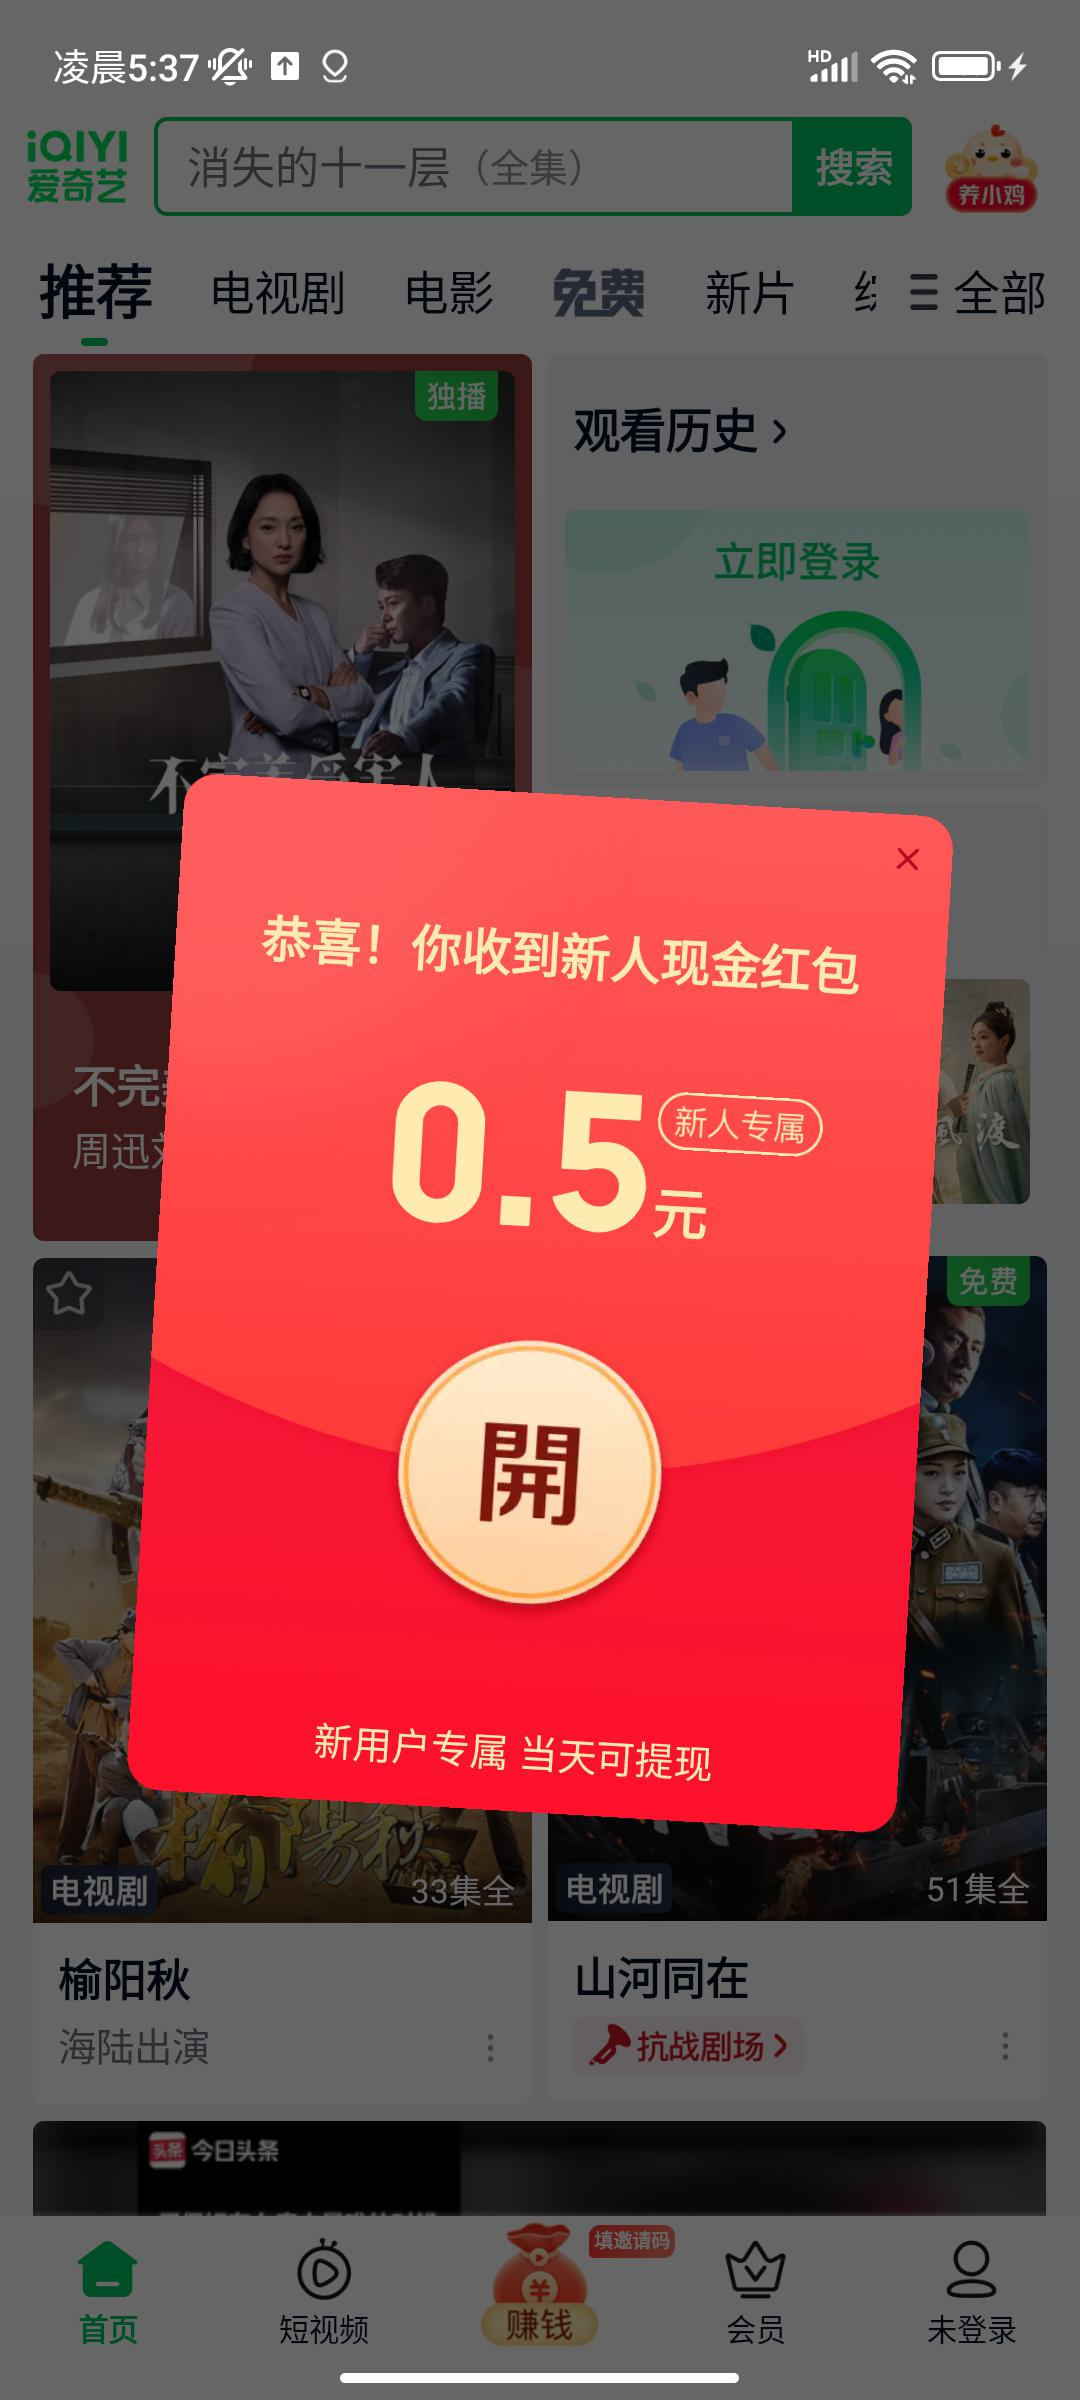ui_group: (116, 761, 955, 1834)
